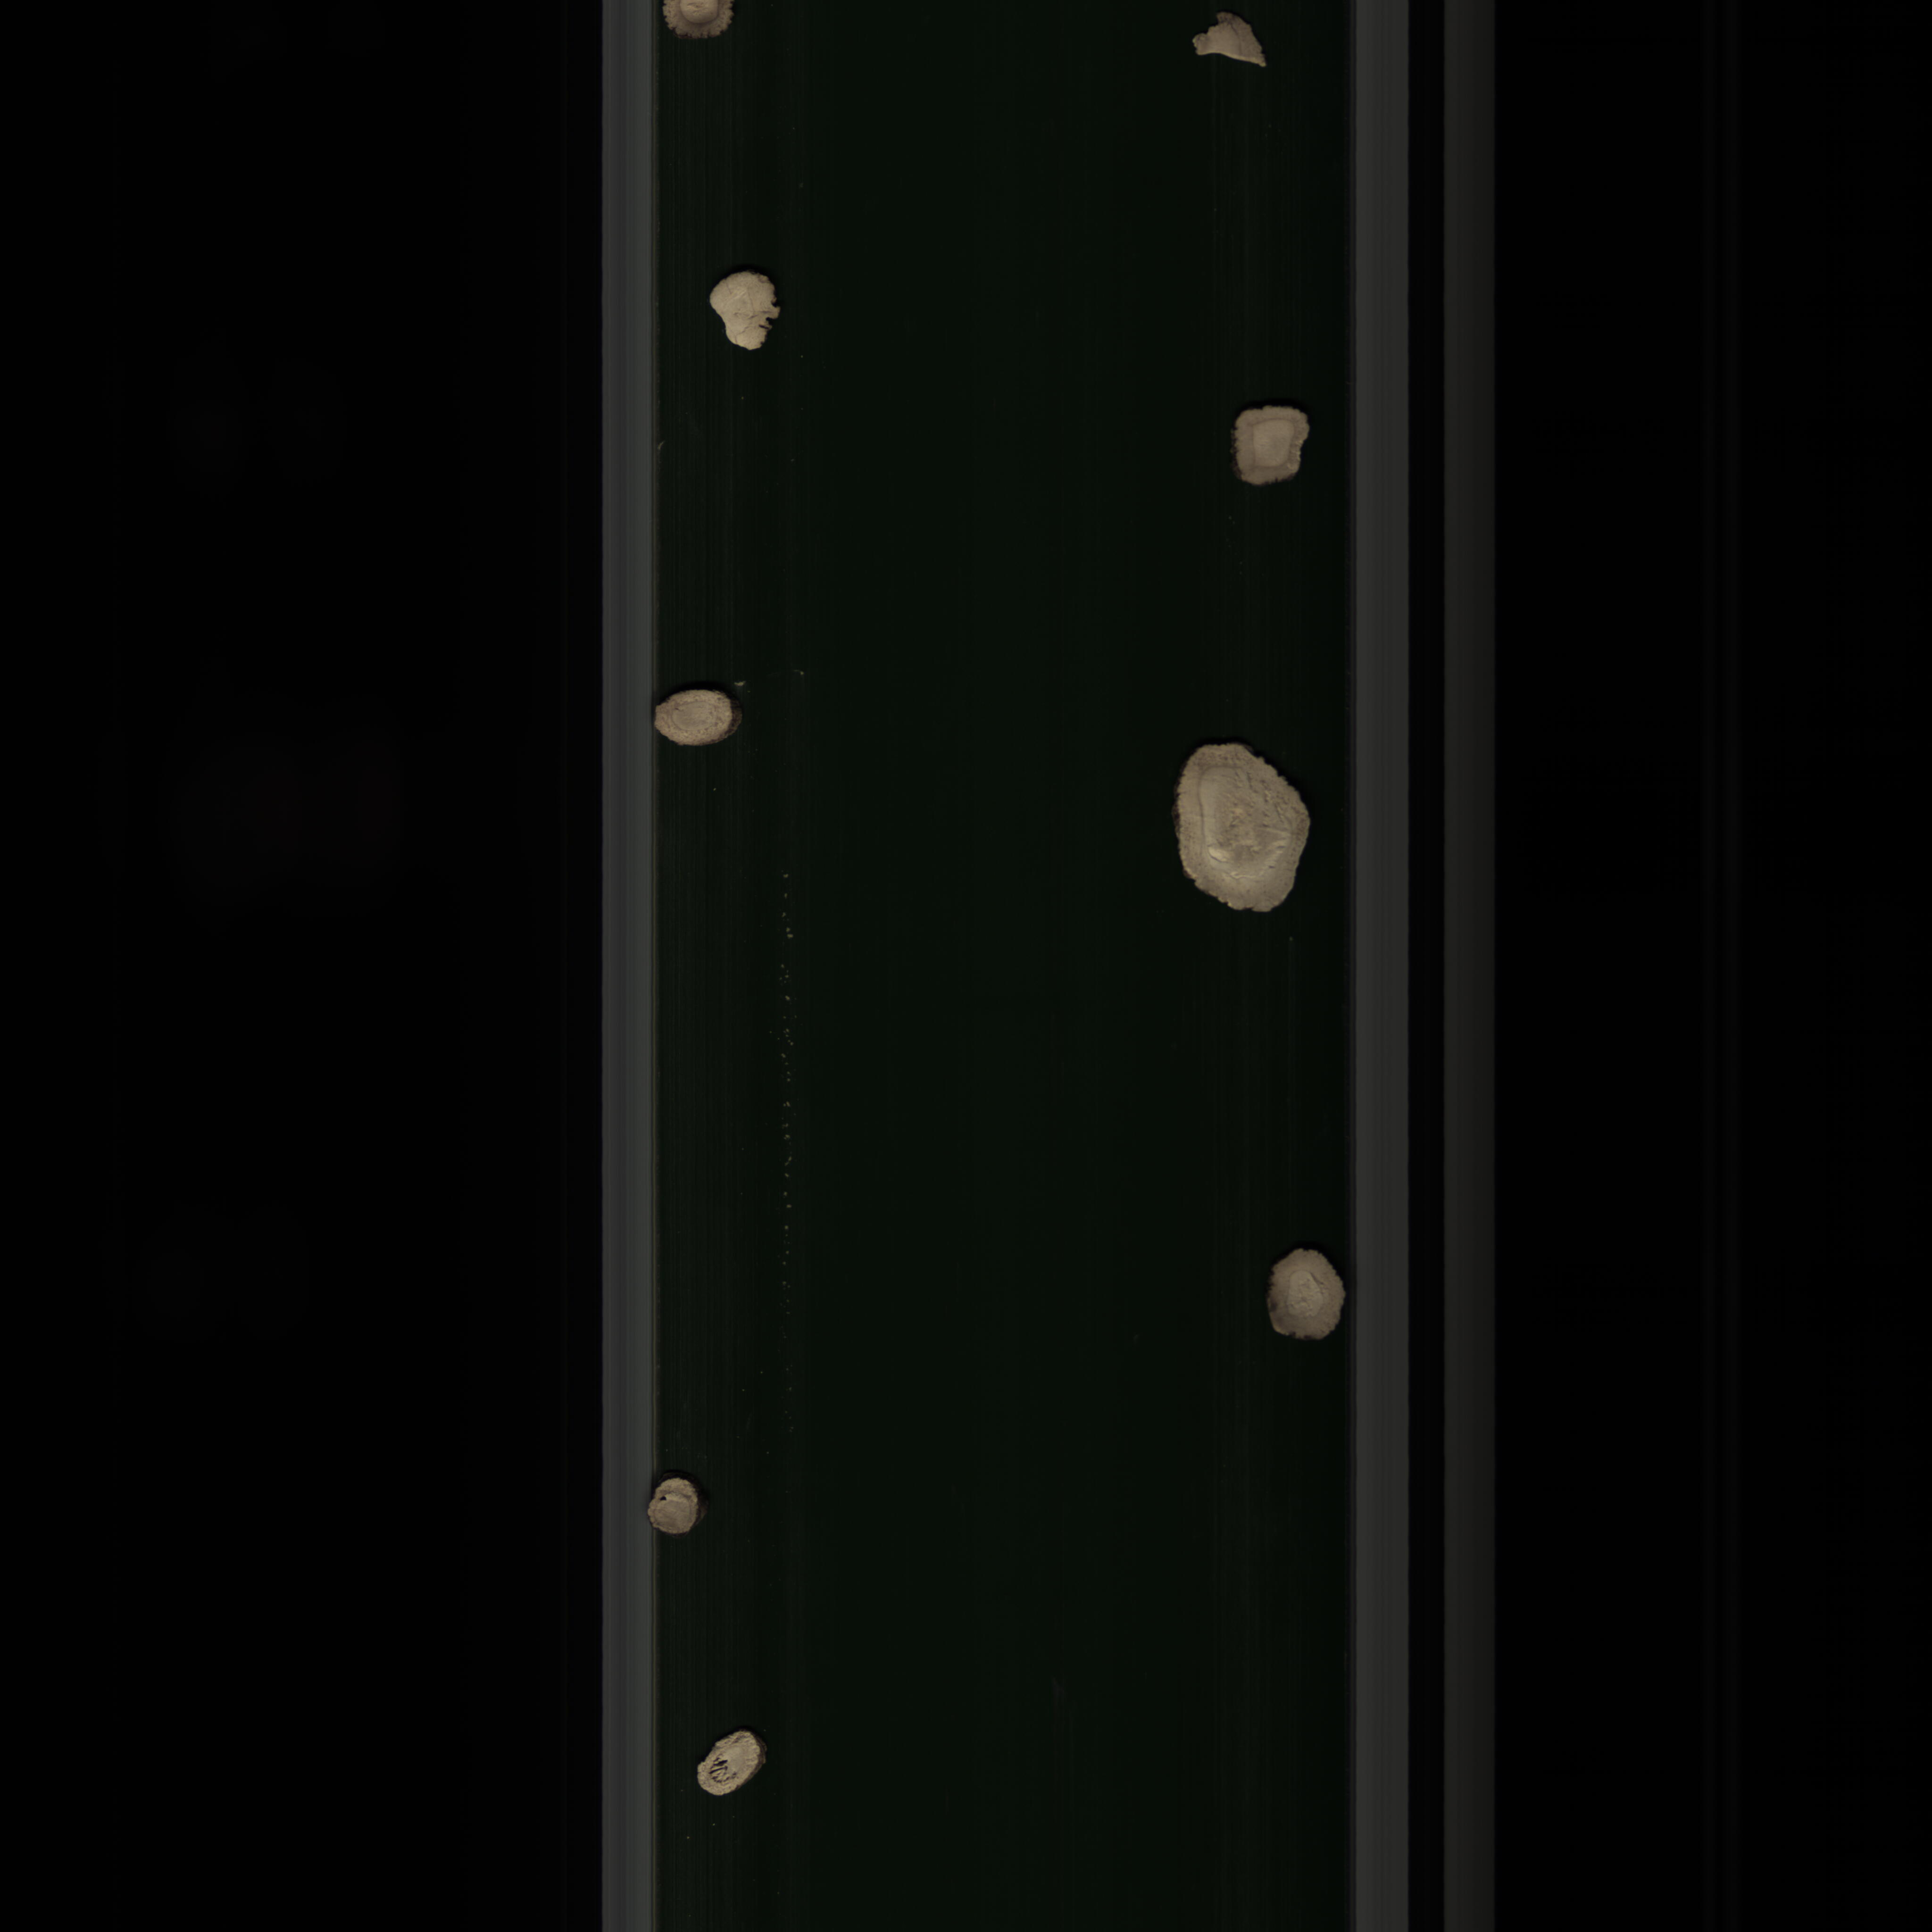debris: (686, 248, 794, 364), (1184, 7, 1281, 74)
hole: (692, 1725, 780, 1805), (642, 1468, 713, 1545)
